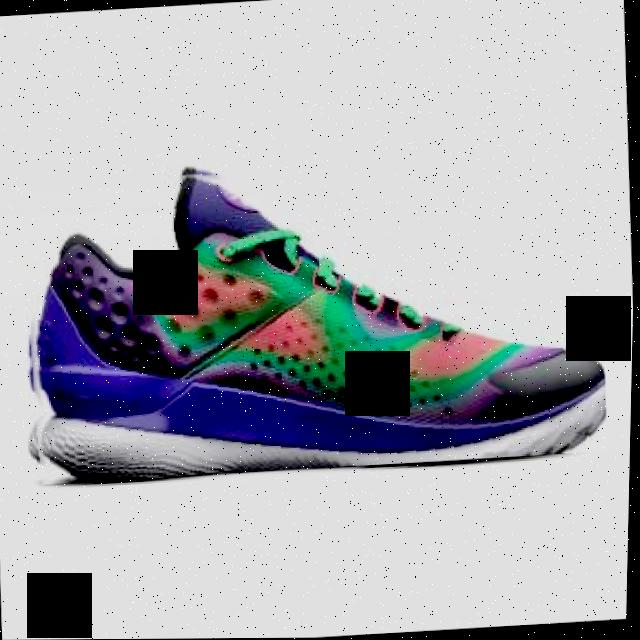shoe: (14, 142, 615, 486)
